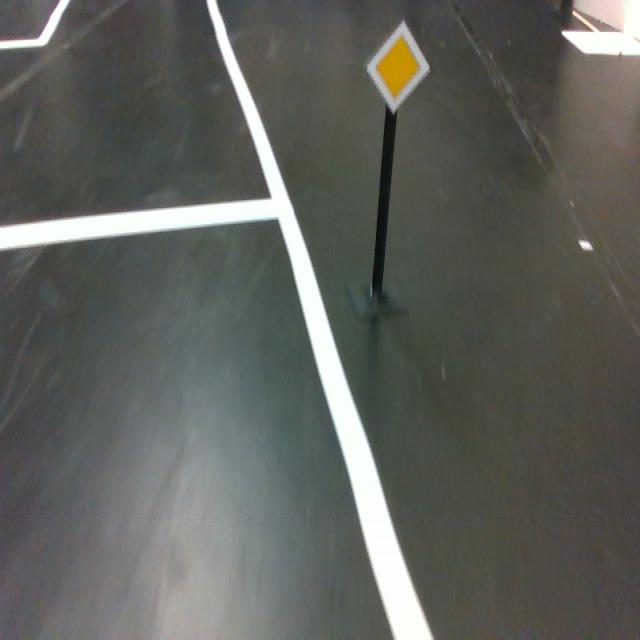priority-sign: (365, 20, 431, 116)
